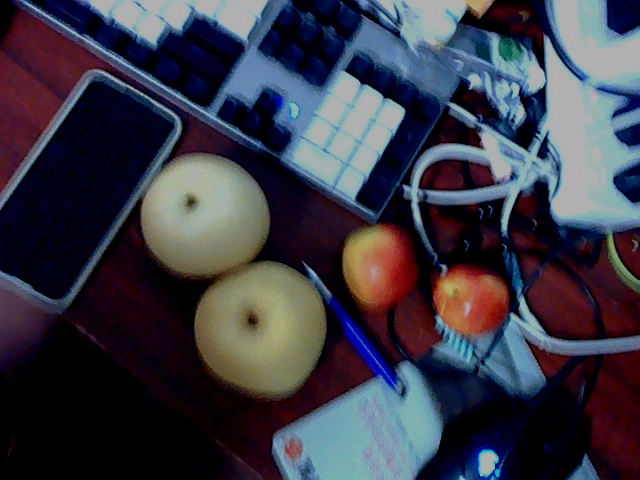peach: (338, 228, 419, 311), (435, 269, 512, 341)
pear: (139, 149, 275, 277), (198, 266, 329, 395)
